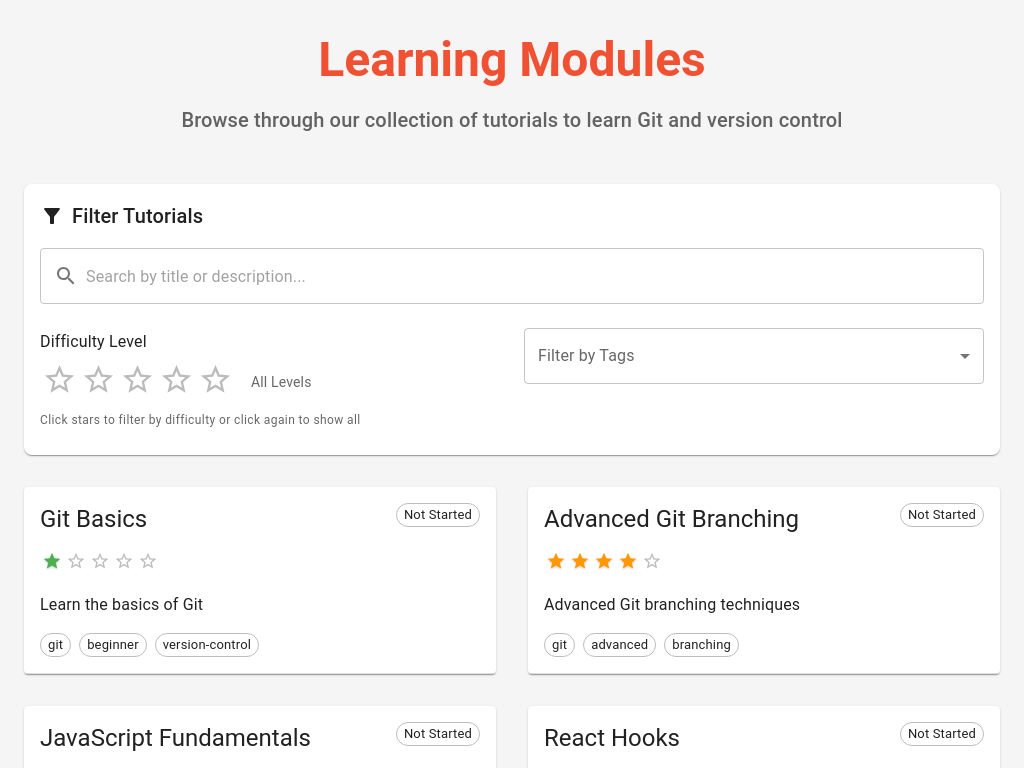
Test: Hashtag Filtering for Modules › resets to show all modules when filters are cleared
Press the mouse on the dropdown named "Filter by Tags" at [754, 356], box x1=524 y1=328 x2=984 y2=384
(page scrolled)
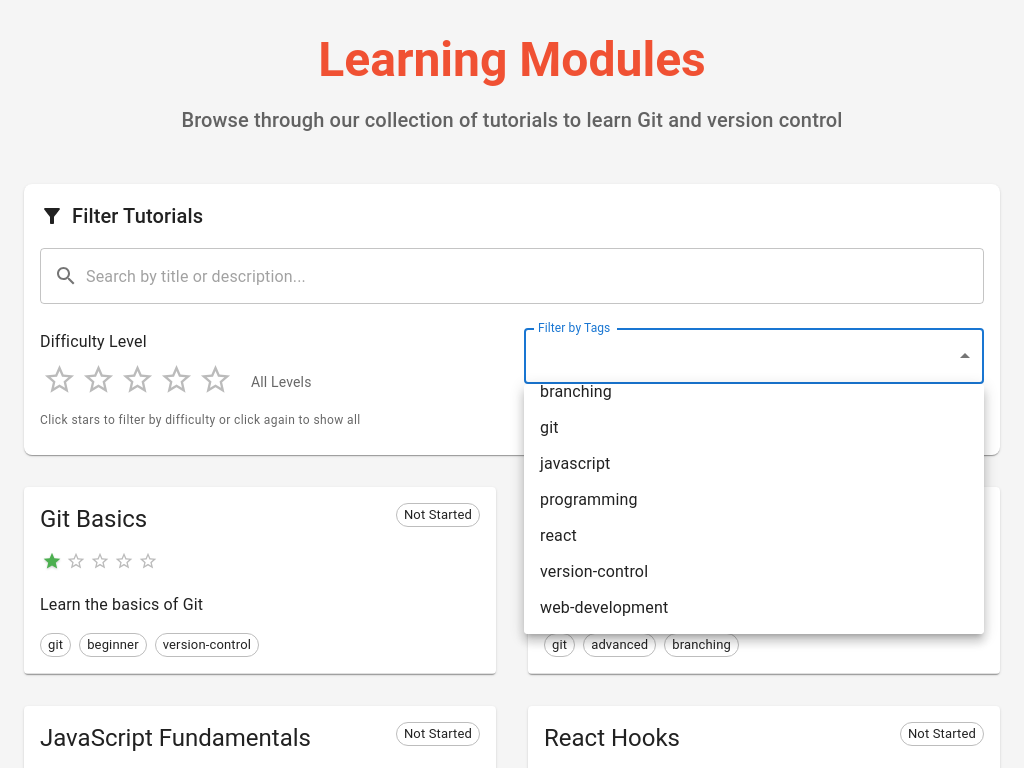
Click the option "react" at [558, 536], box x1=540 y1=526 x2=577 y2=545
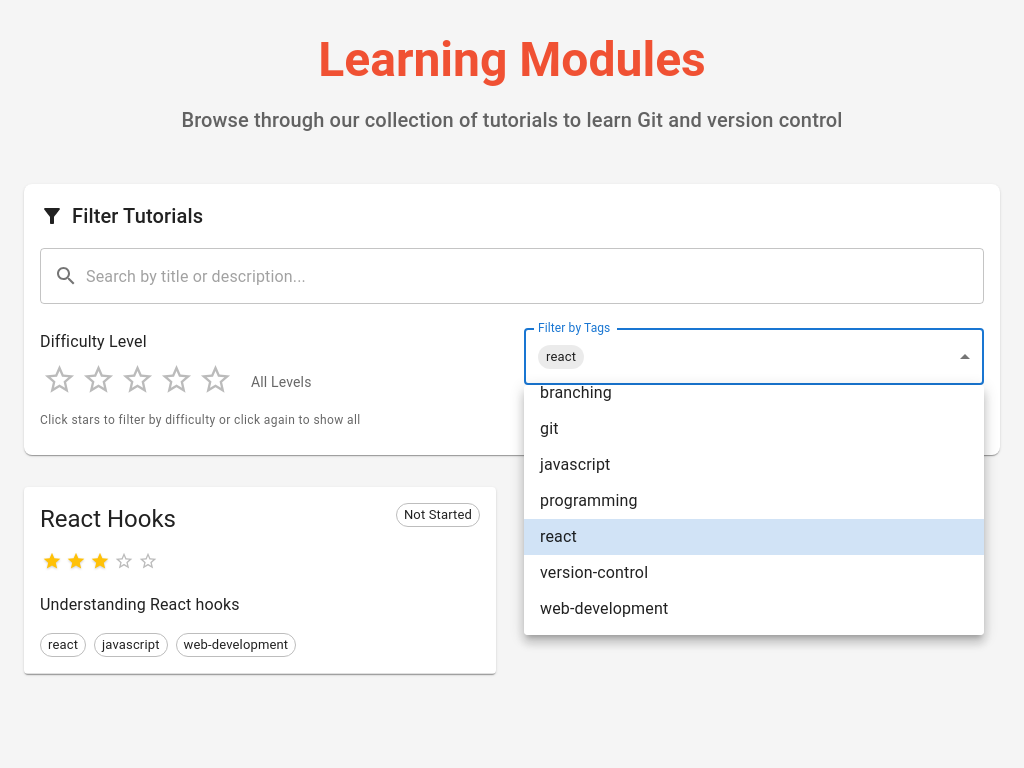
Expected: the heading "React Hooks" is shown, x1=40 y1=502 x2=176 y2=534
Now the option "react" is shown
Now the heading "Git Basics" is gone
Click the option "react" at [558, 536], box x1=524 y1=519 x2=984 y2=555
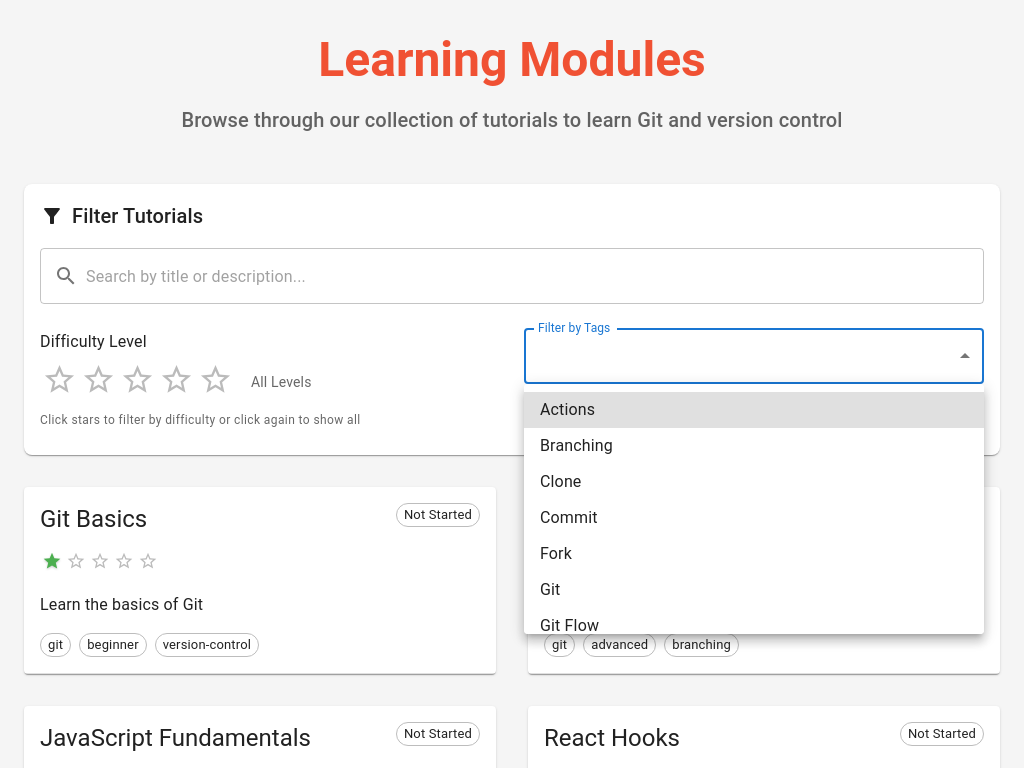
Now the heading "Git Basics" is shown, box x1=40 y1=502 x2=147 y2=534
Now the heading "Advanced Git Branching" is shown, box x1=544 y1=502 x2=799 y2=534
Now the heading "JavaScript Fundamentals" is shown, box x1=40 y1=722 x2=311 y2=754
